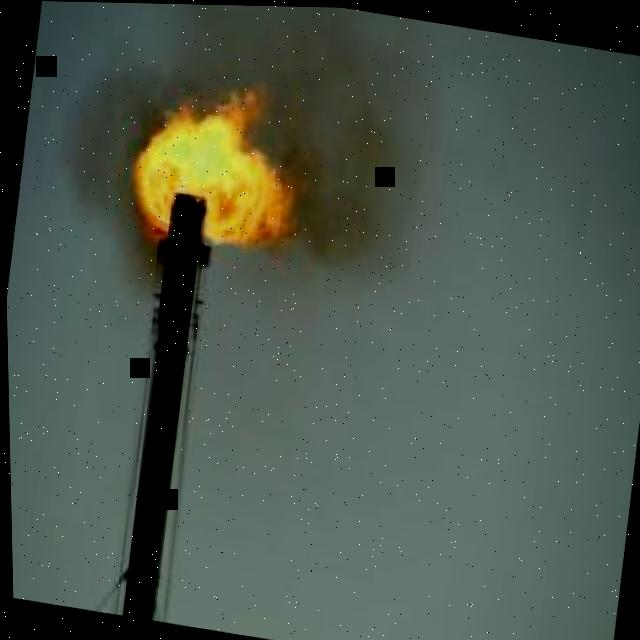fire: (129, 83, 300, 251)
smoke: (63, 3, 442, 290)
